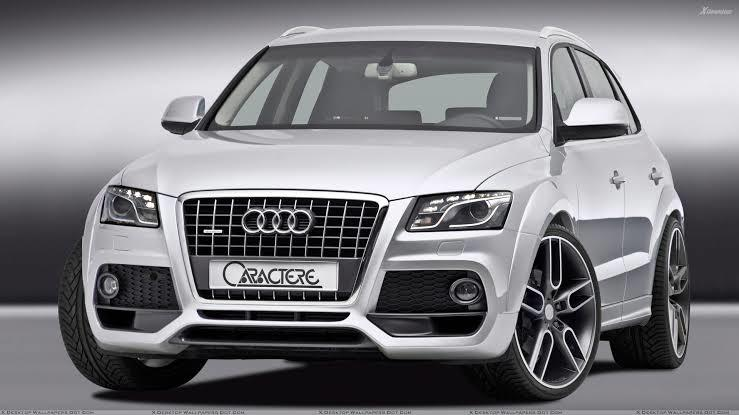audi: (40, 12, 700, 408)
